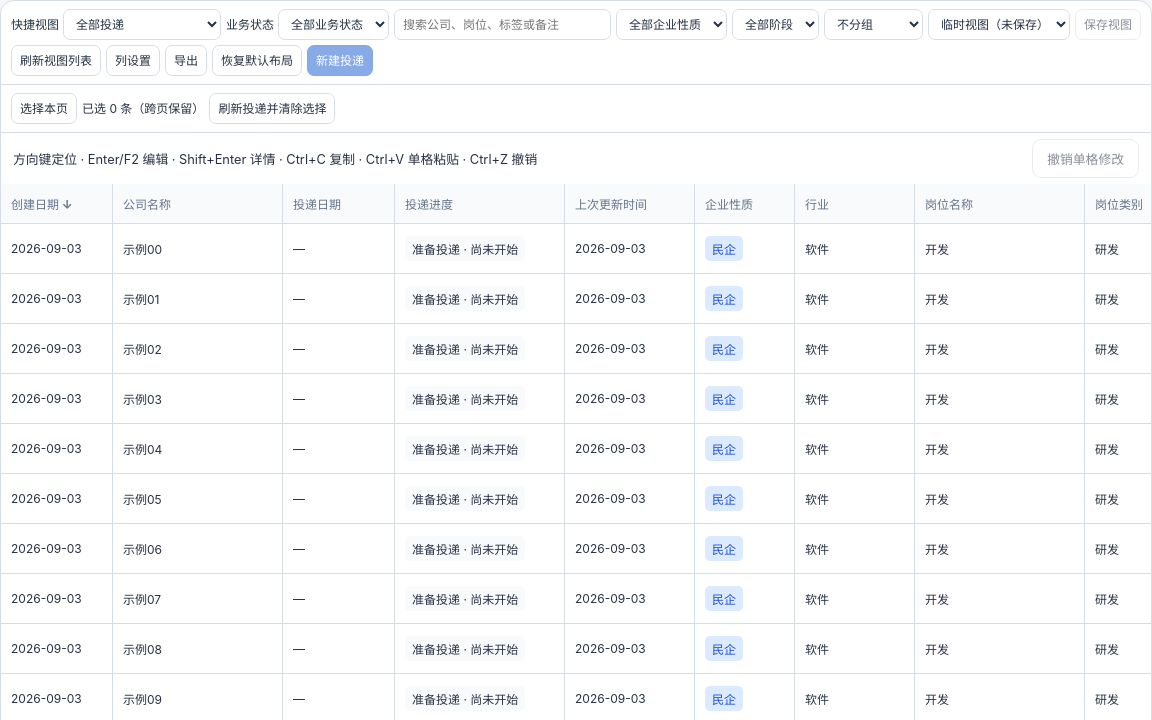
Scenario: allows read-only export selection while keeping batch mutation disabled
This screenshot has width=1152, height=720.
Expected: the text "批量修改" is not shown
Click the button "选择本页" at (44, 108), box [11,93,77,124]
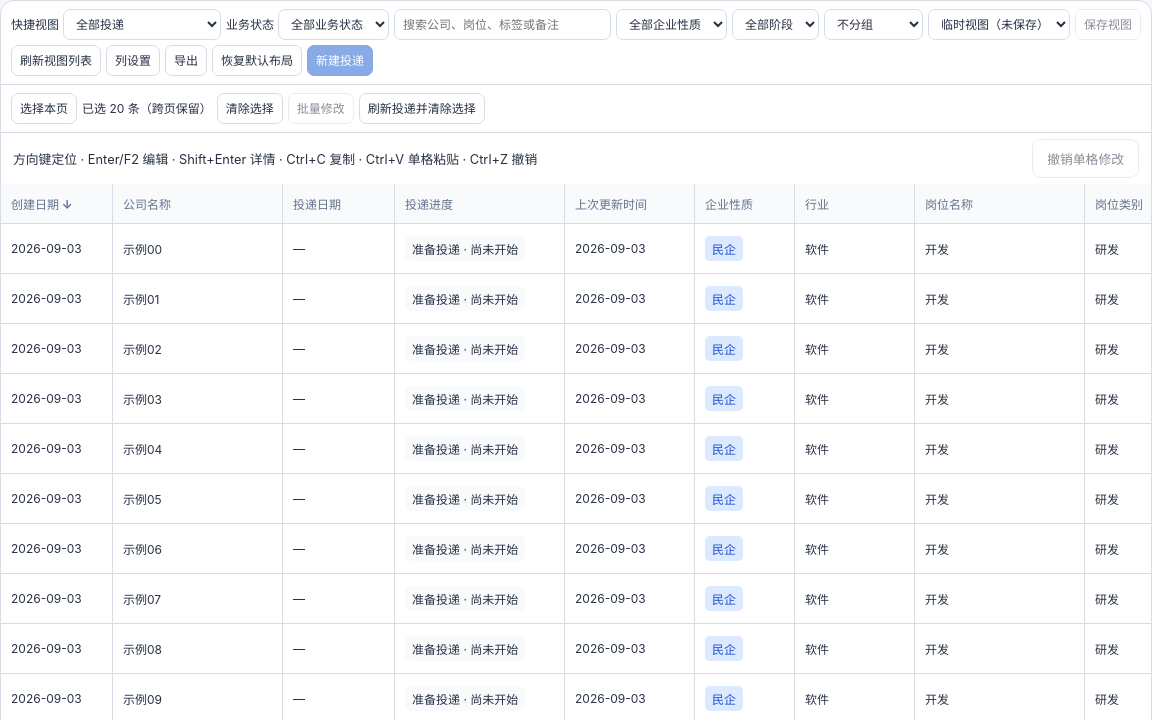
Expected: the button "导出" is enabled, [165,45,207,76]
Expected: the button "批量修改" is disabled, [288,93,354,124]
